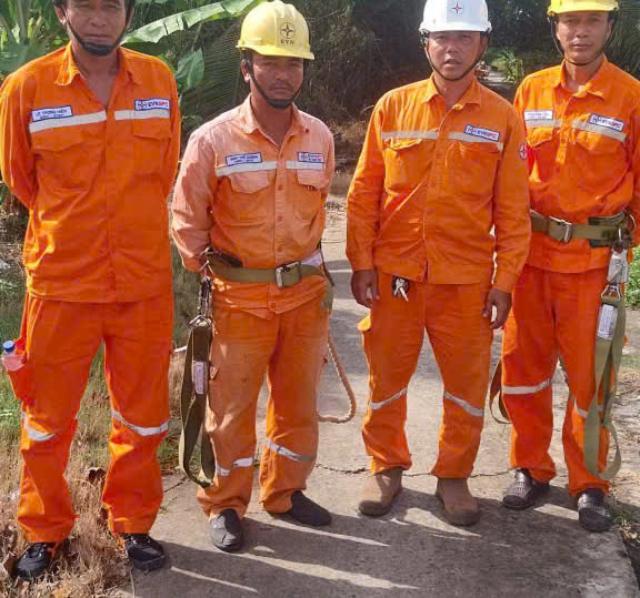harness: (202, 219, 322, 309), (518, 200, 640, 257)
helmet: (228, 0, 330, 73), (413, 0, 504, 37), (530, 0, 630, 33)
shoes: (8, 525, 71, 587), (340, 467, 409, 523), (272, 476, 333, 533), (567, 474, 623, 533), (105, 521, 165, 572), (488, 457, 543, 511), (194, 494, 248, 548), (429, 475, 478, 532)
